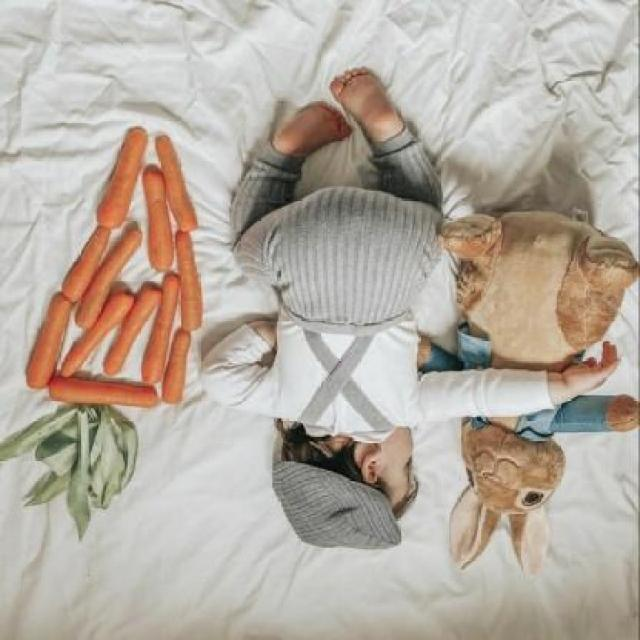baby: (197, 70, 446, 552)
